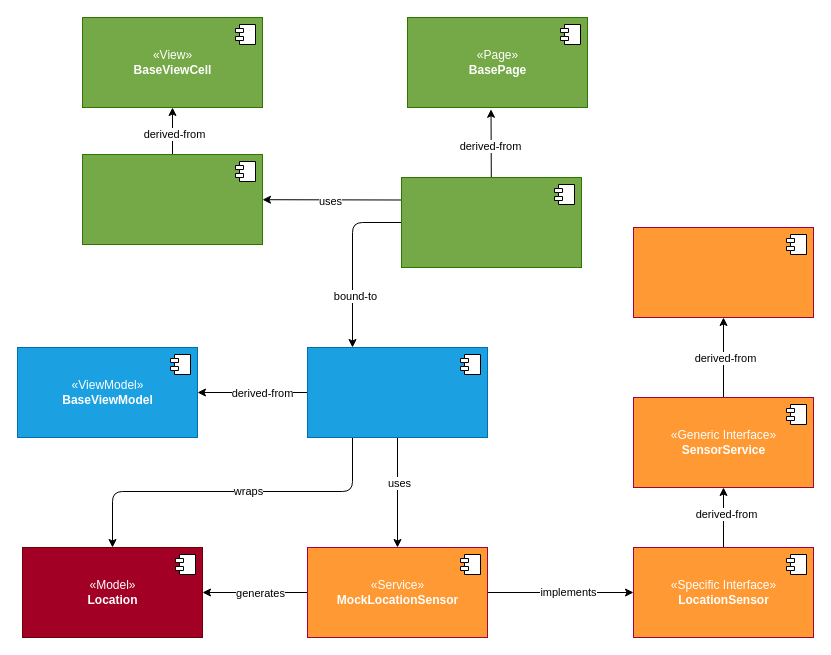
This 831x655 diagram has some shape labels left out. The shapes that lost their labels are listed below. From the top down, each one's centre as x and y in pixels, then its label:
At (172,199): "«View» LocationViewCell".
At (491,222): "«Page» MainPage".
At (723,272): "«Service» BaseService".
At (397,392): "«ViewModel» MainPageViewModel".
